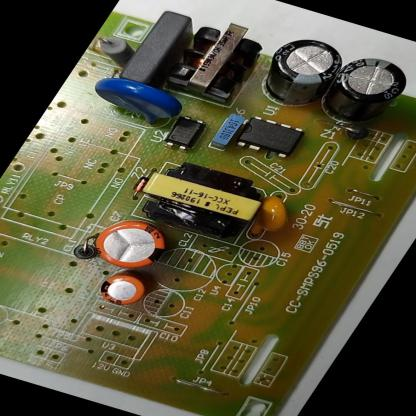Cap1: (73, 208, 186, 280)
Cap2: (83, 261, 163, 317)
Cap3: (245, 29, 361, 115)
Cap4: (306, 43, 416, 136)
MOSFET: (225, 110, 316, 166)
Mov: (77, 68, 192, 134)
Resistor: (84, 27, 145, 69)
Transformer: (120, 151, 283, 252), (156, 12, 277, 106)
